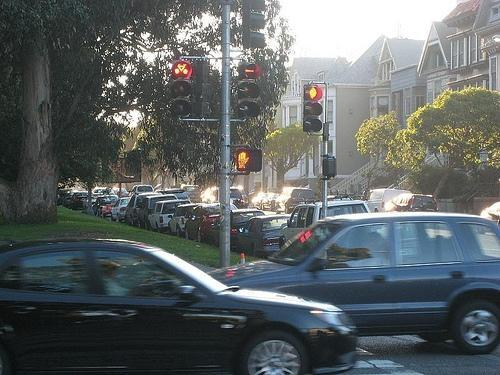car: (2, 237, 360, 375), (205, 210, 499, 354), (70, 195, 266, 248), (280, 200, 372, 245), (234, 213, 292, 259), (184, 203, 239, 242), (148, 198, 191, 232), (123, 191, 162, 228), (139, 194, 179, 229), (384, 192, 440, 211), (199, 211, 220, 245), (93, 195, 119, 220), (128, 184, 155, 196)
